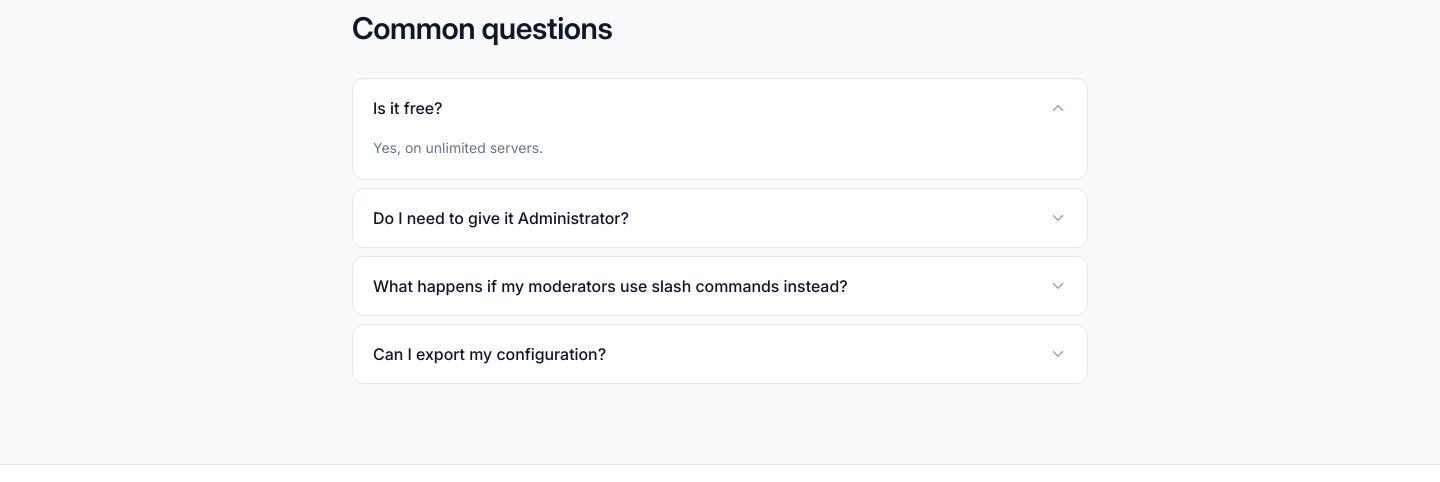
Test case: Faq › collapses the open one when it is clicked again
The image size is (1440, 482).
Click the button "Is it free?" at (408, 108), box [353,79,1087,137]
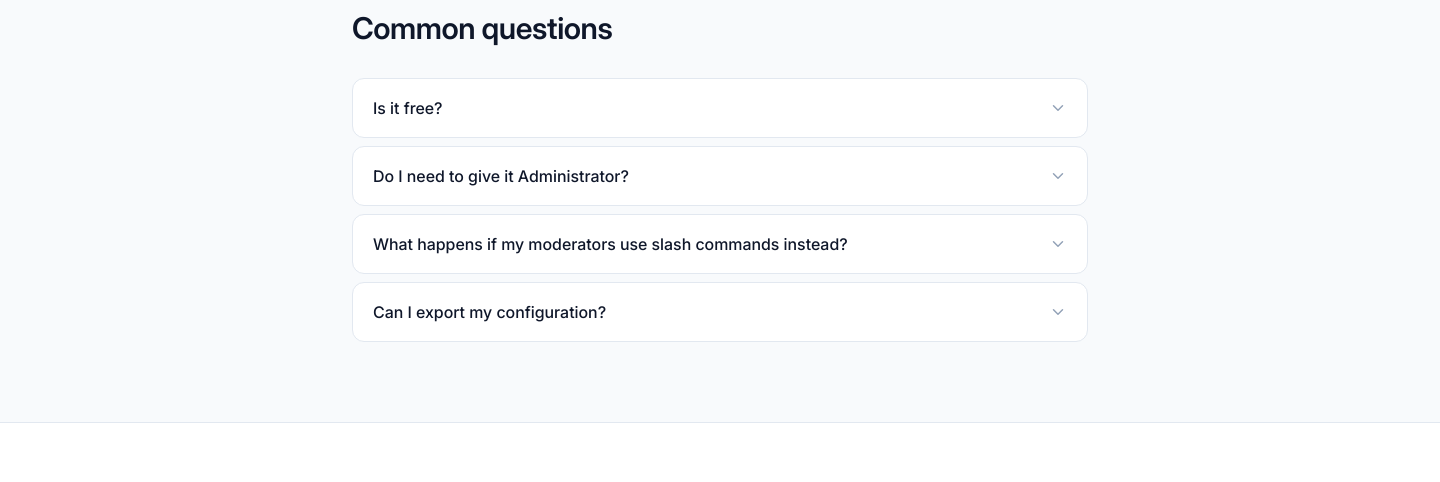
Check: the button "Is it free?" is collapsed, box [353,79,1087,137]
Check: the text "Yes, on unlimited servers." is gone
